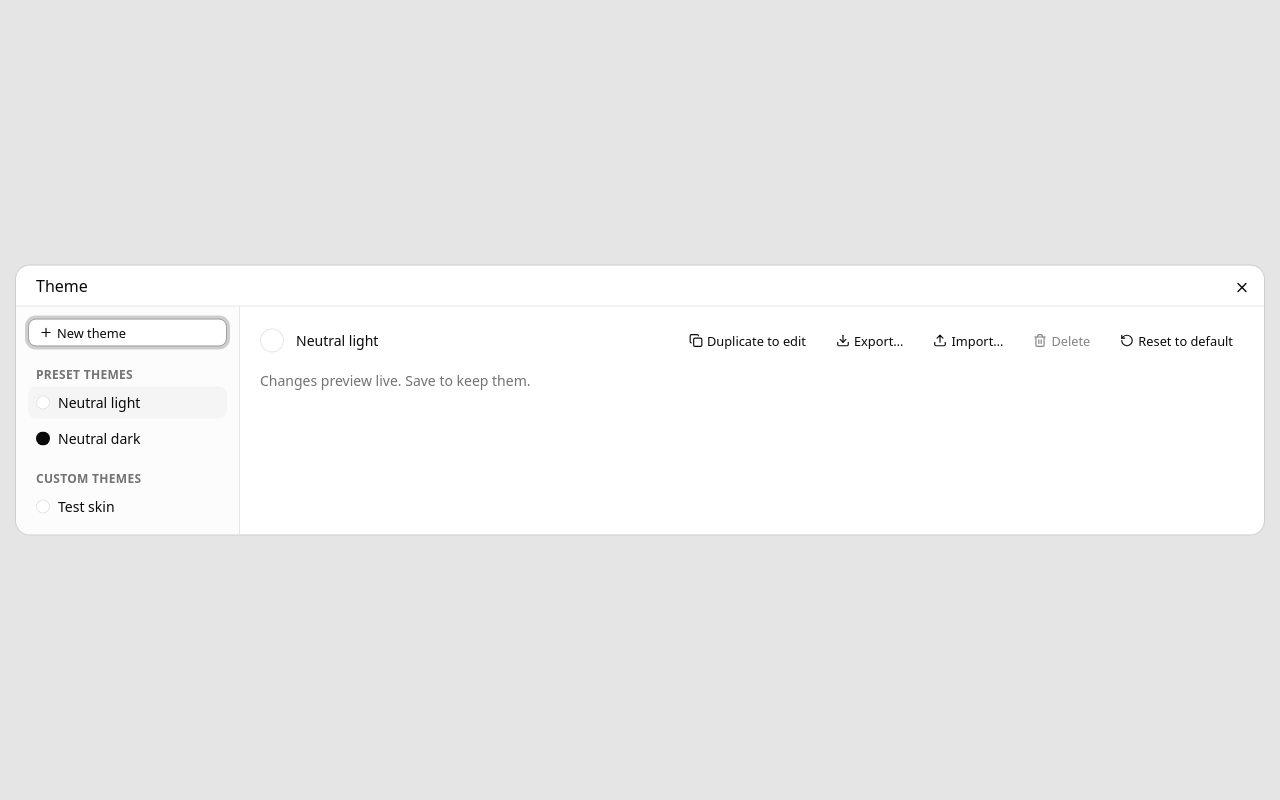
Test case: AppearancePanel › uses location-based color labels, grouped sections, and usage descriptions
Click the button "Test skin" at (128,506), box top-left (28, 490), bottom-right (227, 522)
(page scrolled)
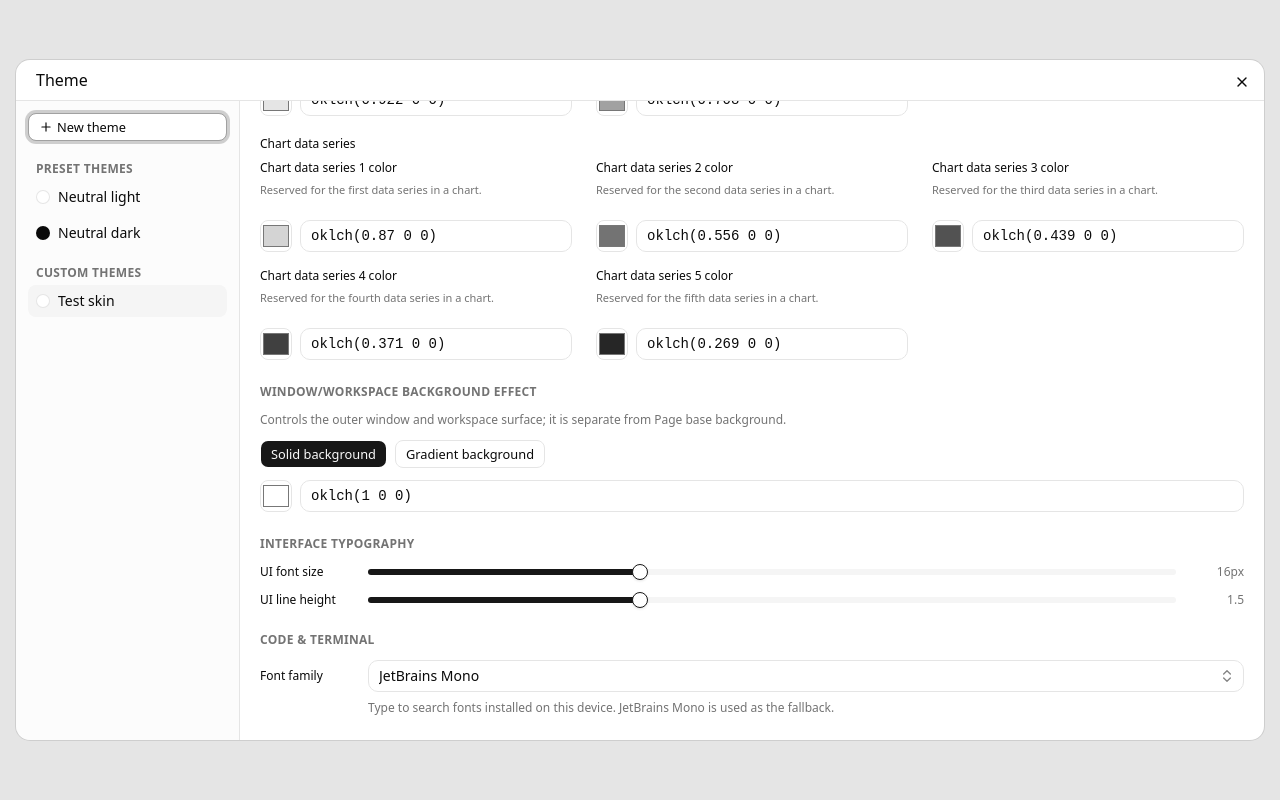
Expected: the heading "Chart data series" is shown, top-left (260, 135), bottom-right (356, 152)
Expected: the heading "Window/workspace background effect" is shown, top-left (260, 383), bottom-right (537, 400)
Expected: the text "Controls the outer window and workspace surface; it is separate from Page base background." is shown, top-left (260, 411), bottom-right (786, 428)
